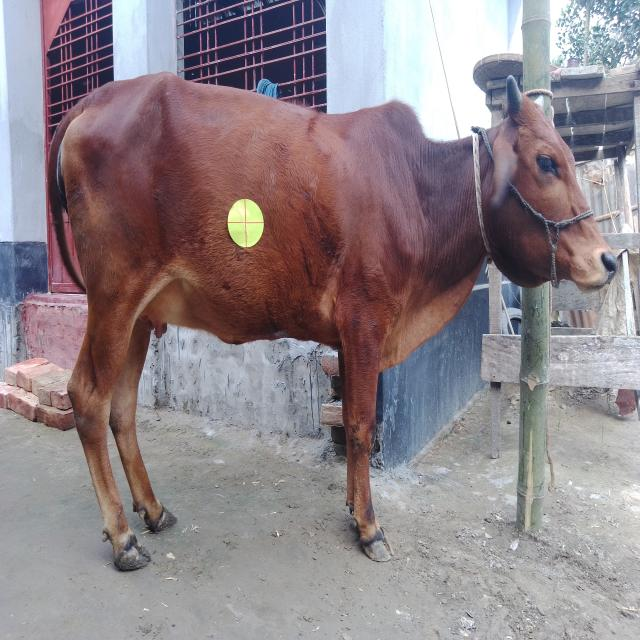badan_sapi: (44, 83, 403, 342)
sapi: (31, 61, 623, 582)
